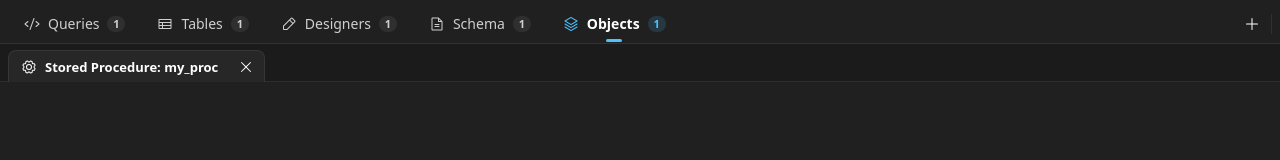
it: WorkspaceTabs › shows distinct icons for other tab types
Check: the icon with test id "workspace-stack-icon-schema" is shown, box [429,16,445,32]
Check: the icon with test id "workspace-stack-icon-tables" is shown, box [158,16,174,32]
Click the button with test id "workspace-stack-chip-schema".
click(480, 24)  # box [413,4,547,44]
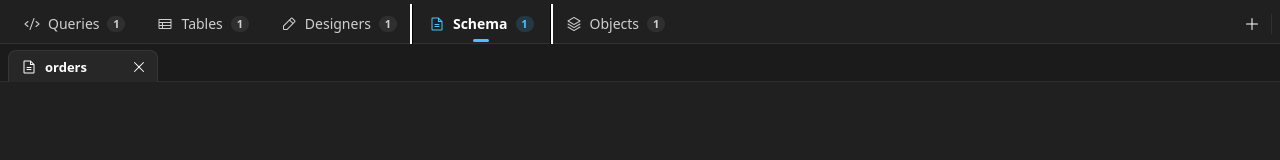
Check: the icon with test id "workspace-tab-icon-schema-info" is shown, box [21,58,37,74]
Click the button with test id "workspace-stack-chip-tables".
click(203, 24)  # box [142,4,265,44]
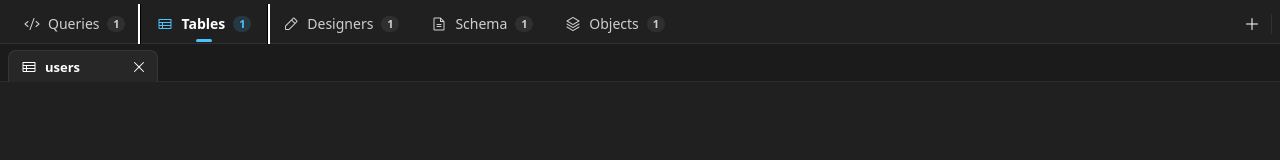
Check: the icon with test id "workspace-tab-icon-table-data" is shown, box [21,58,37,74]
Click the button with test id "workspace-stack-chip-queries".
click(75, 24)  # box [8,4,142,44]
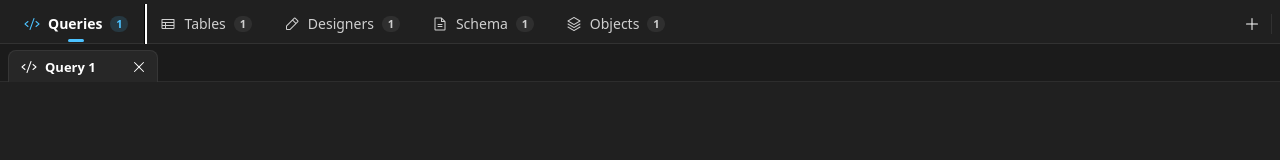
Check: the icon with test id "workspace-tab-icon-query-editor" is shown, box [21,58,37,74]
Click the button with test id "workspace-stack-chip-designers".
click(342, 24)  # box [268,4,416,44]
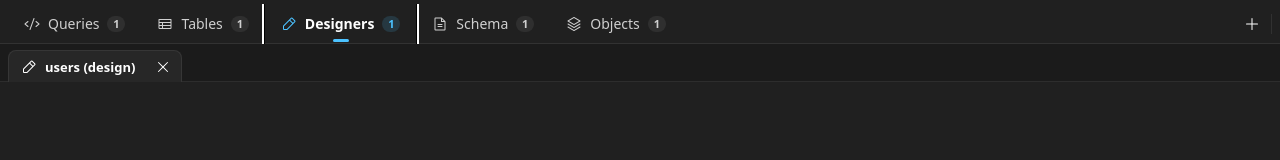
Check: the icon with test id "workspace-tab-icon-table-designer" is shown, box [21,58,37,74]
Click the button with test id "workspace-stack-chip-objects".
click(616, 24)  # box [550,4,682,44]
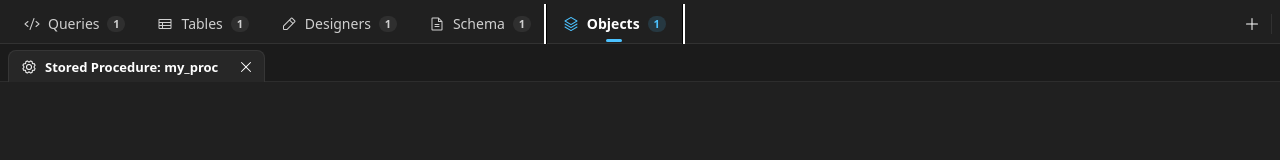
Check: the icon with test id "workspace-tab-icon-object-editor-procedure" is shown, box [21,58,37,74]
